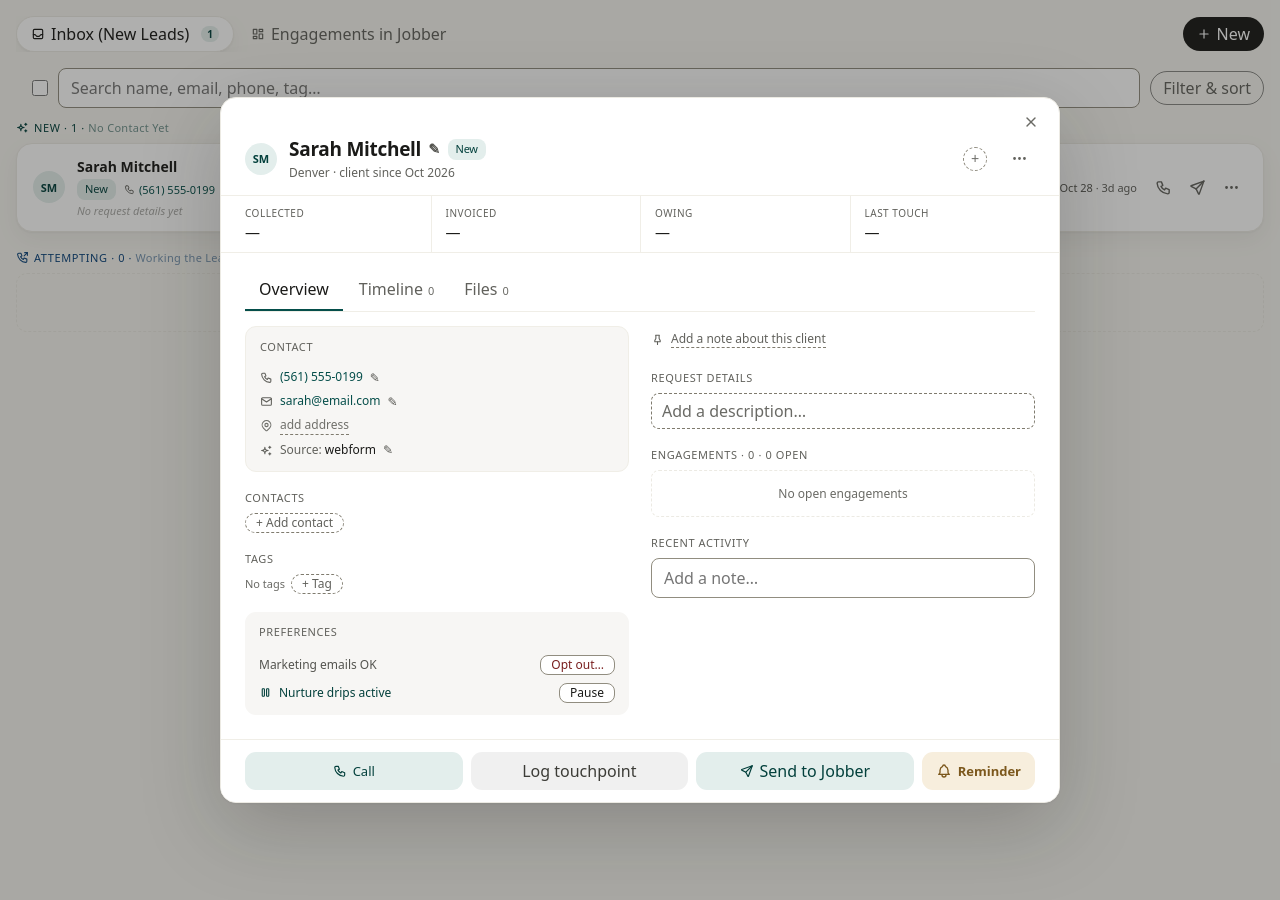
Test case: log a touchpoint from the CLIENT PROFILE — the surface that used to tell nobody › re-derives the person New → Attempting in the Inbox underneath — no reload
The width and height of the screenshot is (1280, 900).
Click the button "Log touchpoint": (579,771) 470,752 -> 688,790
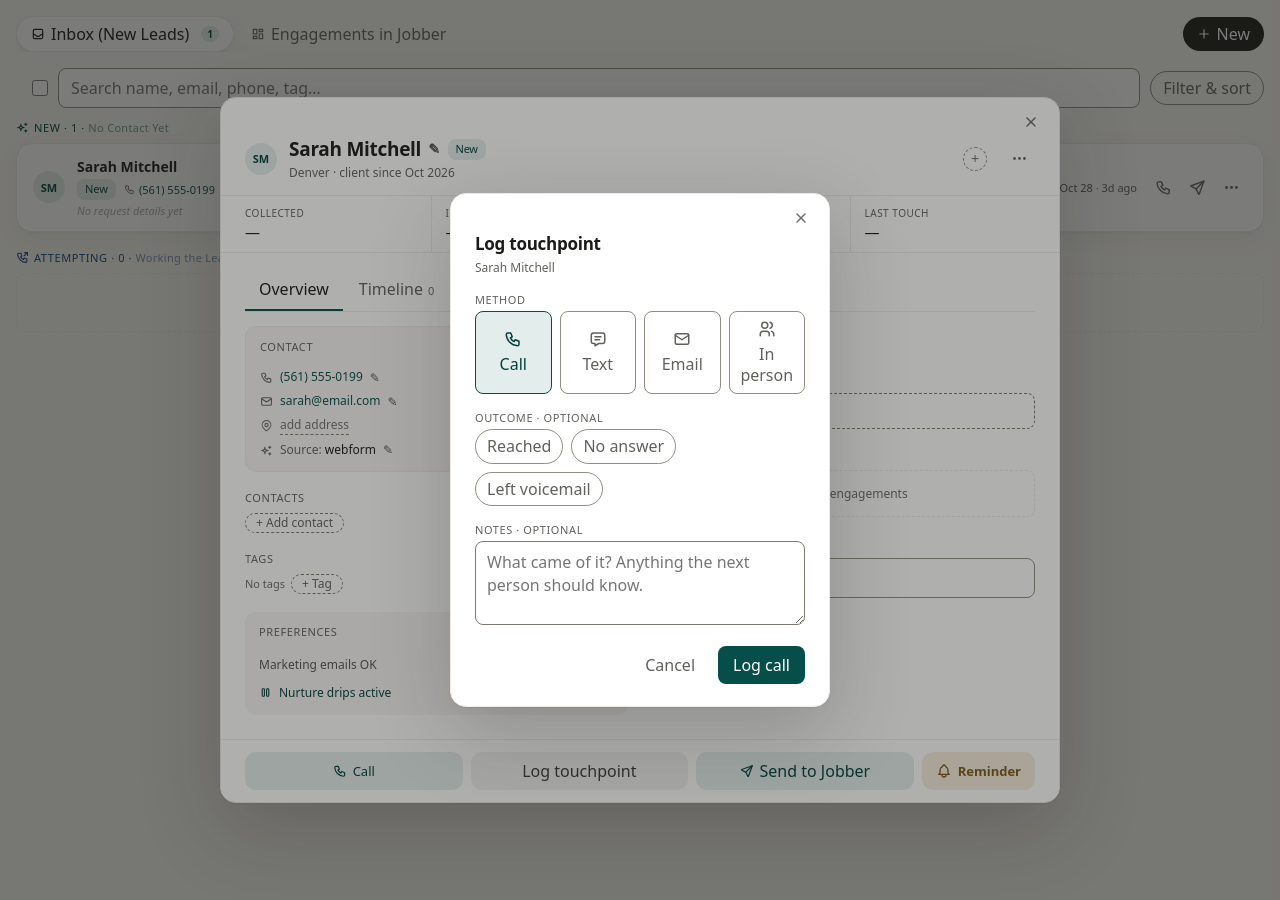
Expected: the button "Log call" is shown
Click the button "Log call": (762,665) 718,646 -> 805,684
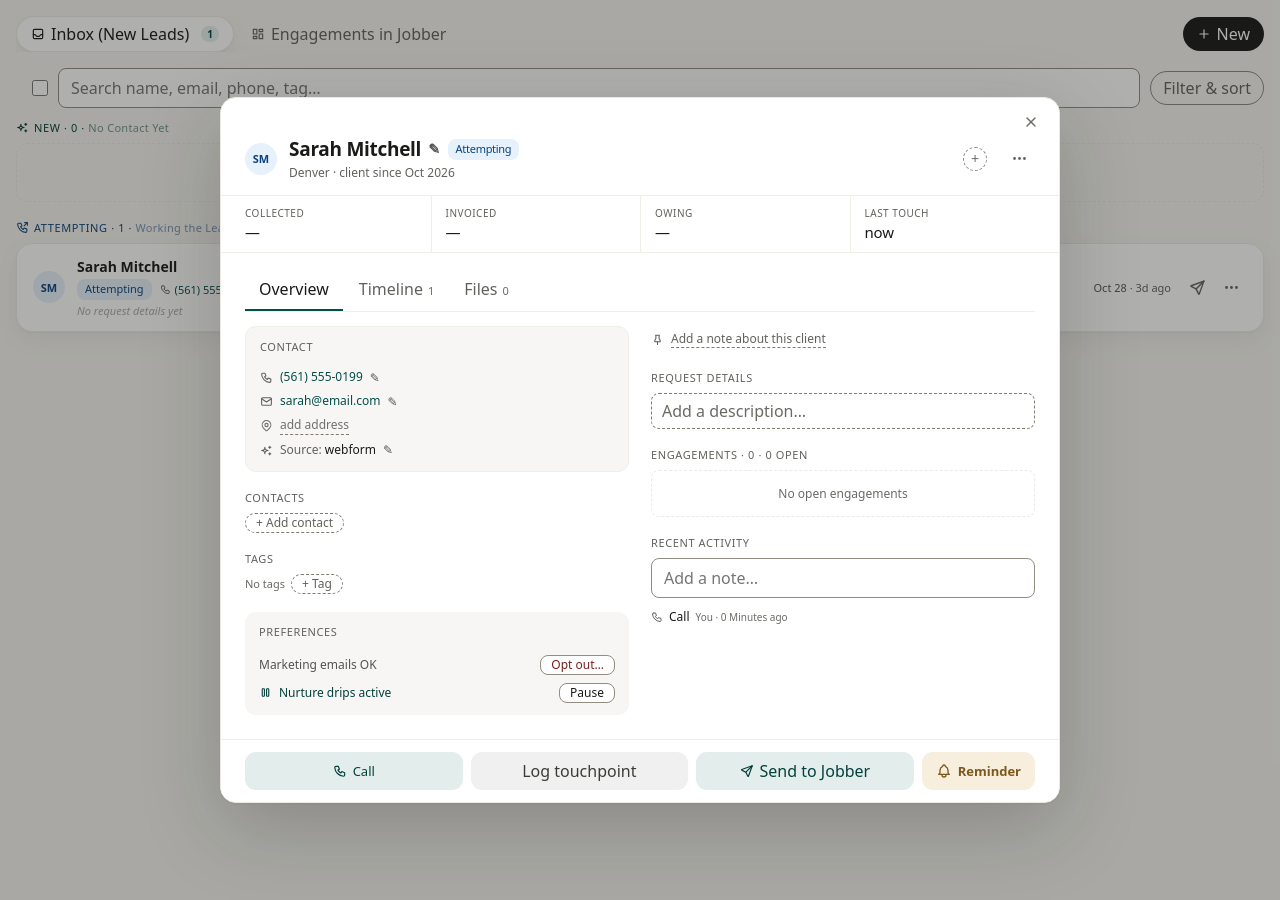
Expected: the text "New · 0" is shown, 16,120 -> 169,135
Expected: the text "Attempting · 1" is shown, 16,220 -> 231,235
